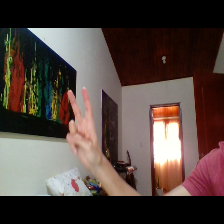KP: (62, 82, 107, 170)
